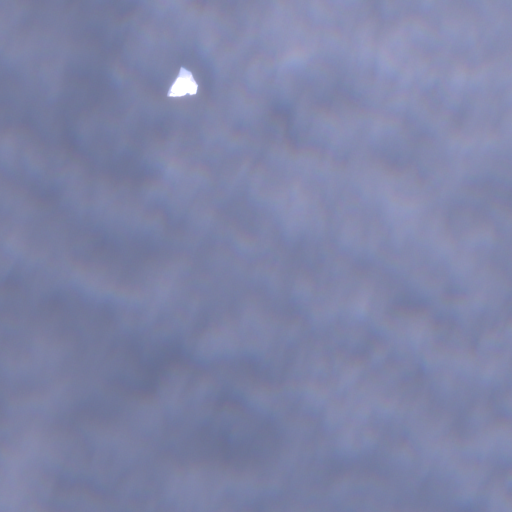Iceberg: (167, 67, 197, 96)
